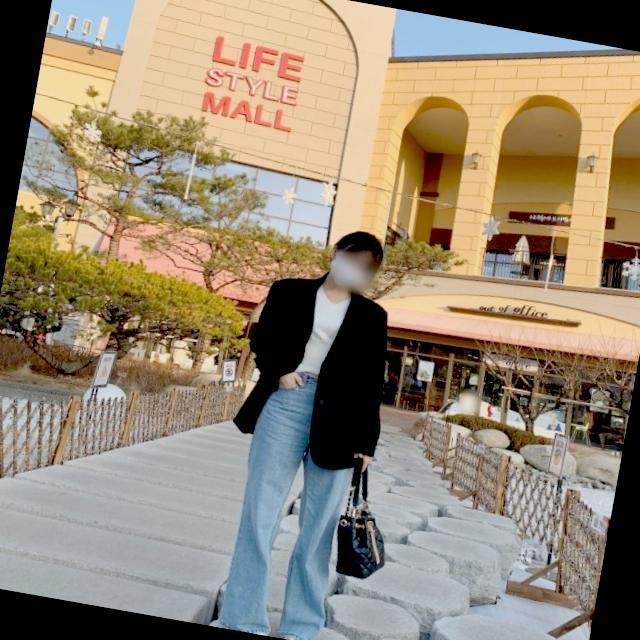blazer: (228, 267, 410, 475)
denimpants: (213, 364, 369, 640)
